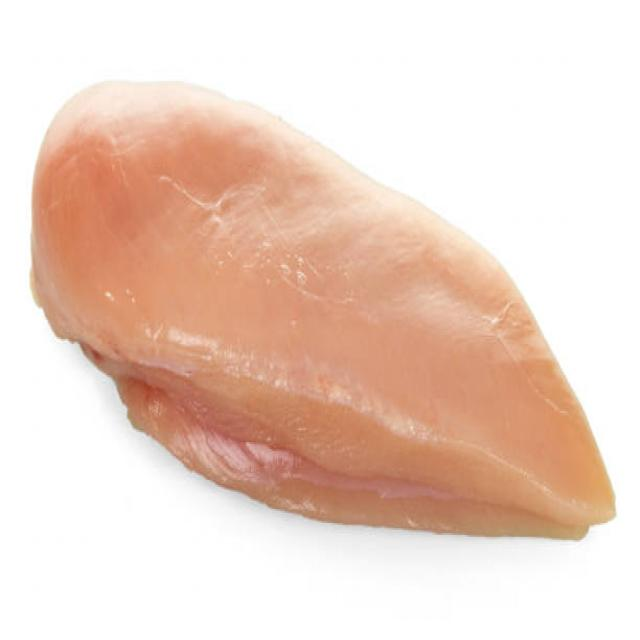Chicken: (19, 45, 625, 560)
